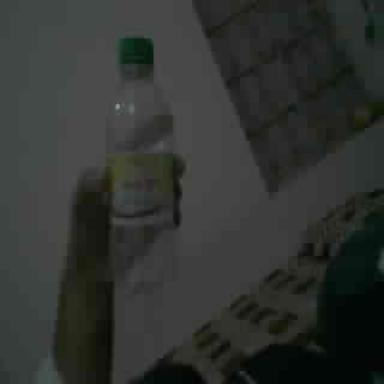bottle: (104, 38, 179, 291)
